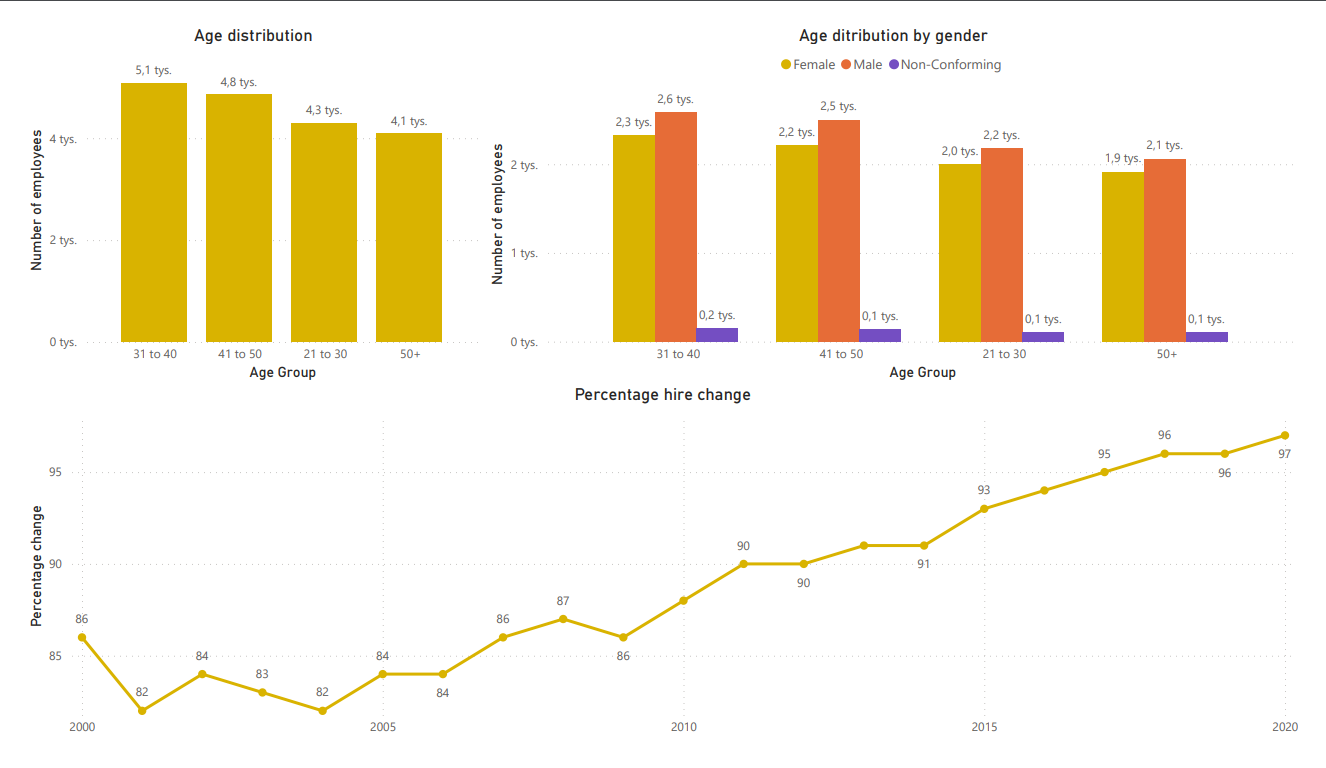

What the dashboard file says about the page in this screenshot:
{"tool":"powerbi","page":{"name":"Strona 2","canvas":[1280,720],"ordinal":1},"visuals":[{"type":"clusteredColumnChart","title":"Age distribution","fields":{"Y":["Sum(age group distribution.Column2)"],"Category":["age group distribution.Column1"]},"box":[0,0,461,359.9],"z":0},{"type":"clusteredColumnChart","title":"Age ditribution by gender","fields":{"Y":["Sum(age group distribution gender.Column3)"],"Category":["age group distribution gender.Column1"],"Series":["age group distribution gender.Column2"]},"box":[460.9,0,819.1,360.3],"z":1000},{"type":"lineChart","title":"Percentage hire change","fields":{"Category":["percent hire change.Column1"],"Y":["Sum(percent hire change.Column5)"]},"box":[0,359.3,1280,360.3],"z":2000}]}

Visuals, with their boxes in screenshot pixels (x1, y1, x2, y2), scaled from the page's 1280x720 canvas onto the 1326x768 screenshot:
"Age distribution" clusteredColumnChart: box(0, 0, 478, 384)
"Age ditribution by gender" clusteredColumnChart: box(477, 0, 1325, 384)
"Percentage hire change" lineChart: box(0, 383, 1325, 767)
